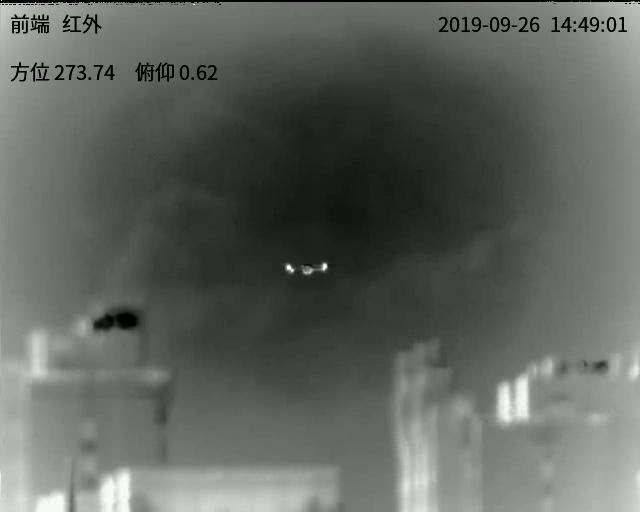DRONE: (284, 261, 328, 275)
